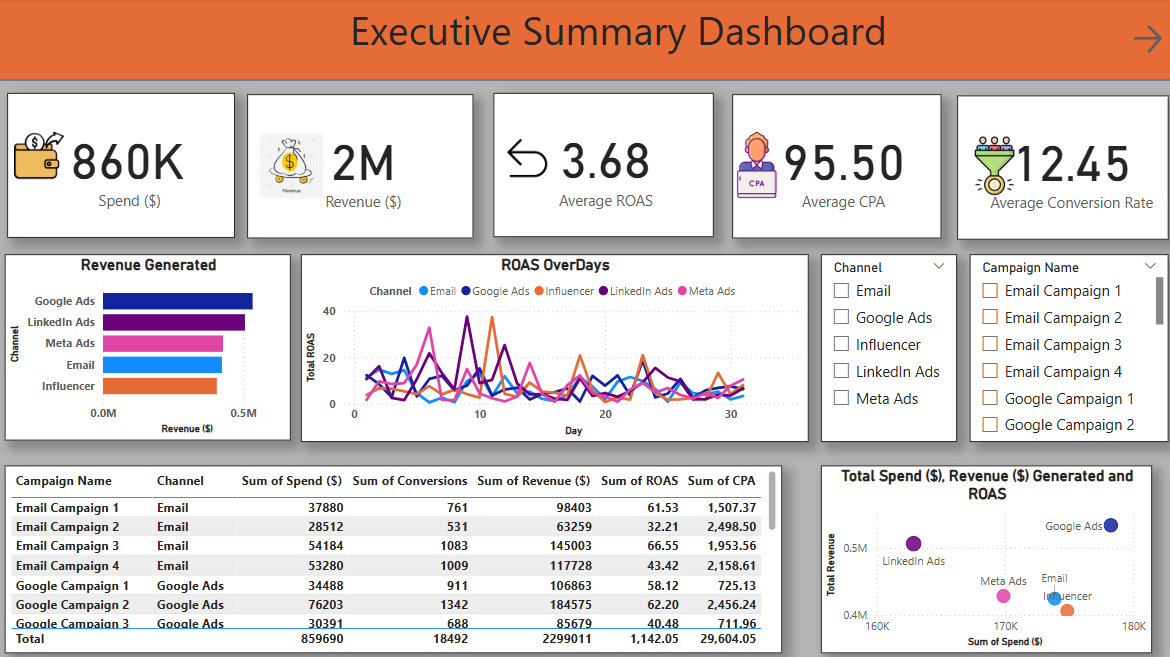

The dashboard page shown, as its layout file describes it:
{"tool":"powerbi","page":{"name":"Page 1","canvas":[1280,720],"ordinal":0},"visuals":[{"type":"shape","box":[0,0,1280.3,89.3],"z":0},{"type":"textbox","box":[67.7,0,1212.6,89.3],"z":1000},{"type":"card","fields":{"Values":["Sum(marketing_roi_analysis.Spend ($))"]},"box":[31.1,102.9,246.3,154.3],"z":2000},{"type":"card","fields":{"Values":["Sum(marketing_roi_analysis.Revenue ($))"]},"box":[293.7,102.9,253.1,155.6],"z":3000},{"type":"card","fields":{"Values":["Avg(marketing_roi_analysis.ROAS)"]},"box":[572.5,102.9,253.1,155.6],"z":4000},{"type":"card","fields":{"Values":["Avg(marketing_roi_analysis.CPA)"]},"box":[847.2,105.6,250.4,152.9],"z":5000},{"type":"barChart","title":"Revenue Generated","fields":{"Y":["Sum(marketing_roi_analysis.Revenue ($))"],"Category":["marketing_roi_analysis.Channel"]},"box":[9.5,277.4,337,201.7],"z":6000},{"type":"lineChart","title":" ROAS OverDays","fields":{"Y":["Sum(marketing_roi_analysis.ROAS)"],"Series":["marketing_roi_analysis.Channel"],"Category":["marketing_roi_analysis.Date.Variation.Date Hierarchy.Day"]},"box":[364.1,277.4,652.3,203],"z":7000},{"type":"tableEx","fields":{"Values":["marketing_roi_analysis.Campaign Name","marketing_roi_analysis.Channel","Sum(marketing_roi_analysis.Spend ($))","Sum(marketing_roi_analysis.Conversions)","Sum(marketing_roi_analysis.Revenue ($))","Sum(marketing_roi_analysis.ROAS)","Sum(marketing_roi_analysis.CPA)"]},"box":[9.5,506.2,841.8,203],"z":8000},{"type":"scatterChart","title":"Total Spend ($),  Revenue ($) Generated  and ROAS","fields":{"X":["Sum(marketing_roi_analysis.Spend ($))"],"Y":["Sum(marketing_roi_analysis.Revenue ($))"],"Category":["marketing_roi_analysis.Channel"],"Size":["Sum(marketing_roi_analysis.ROAS BI)"]},"box":[893.2,506.2,358.6,203],"z":9000},{"type":"image","box":[43.3,0,184.1,89.3],"z":10000},{"type":"image","box":[21.7,136.7,92,67.7],"z":11000},{"type":"image","box":[293.7,143.5,96.1,78.5],"z":12000},{"type":"image","box":[572.5,147.5,90.7,65],"z":13000},{"type":"image","box":[825.5,140.7,112.3,82.6],"z":14000},{"type":"slicer","fields":{"Values":["marketing_roi_analysis.Channel"]},"box":[1109.8,105.6,154.3,177.3],"z":15000},{"type":"slicer","fields":{"Values":["marketing_roi_analysis.Campaign Name"]},"box":[1038,293.7,226,185.4],"z":16000},{"type":"shape","box":[0,89.3,1280.3,630.7],"z":17000}]}

Visuals, with their boxes in screenshot pixels (x1, y1, x2, y2), scaled from the page's 1280x720 canvas onto the 1170x657 screenshot:
shape: [0, 0, 1169, 81]
textbox: [62, 0, 1169, 81]
card - Sum(marketing_roi_analysis.Spend ($)): [28, 94, 254, 235]
card - Sum(marketing_roi_analysis.Revenue ($)): [268, 94, 500, 236]
card - Avg(marketing_roi_analysis.ROAS): [523, 94, 755, 236]
card - Avg(marketing_roi_analysis.CPA): [774, 96, 1003, 236]
"Revenue Generated" barChart: [9, 253, 317, 437]
" ROAS OverDays" lineChart: [333, 253, 929, 438]
tableEx - marketing_roi_analysis.Campaign Name x marketing_roi_analysis.Channel: [9, 462, 778, 647]
"Total Spend ($),  Revenue ($) Generated  and ROAS" scatterChart: [816, 462, 1144, 647]
image: [40, 0, 208, 81]
image: [20, 125, 104, 187]
image: [268, 131, 356, 203]
image: [523, 135, 606, 194]
image: [755, 128, 857, 204]
slicer - marketing_roi_analysis.Channel: [1014, 96, 1155, 258]
slicer - marketing_roi_analysis.Campaign Name: [949, 268, 1155, 437]
shape: [0, 81, 1169, 656]
